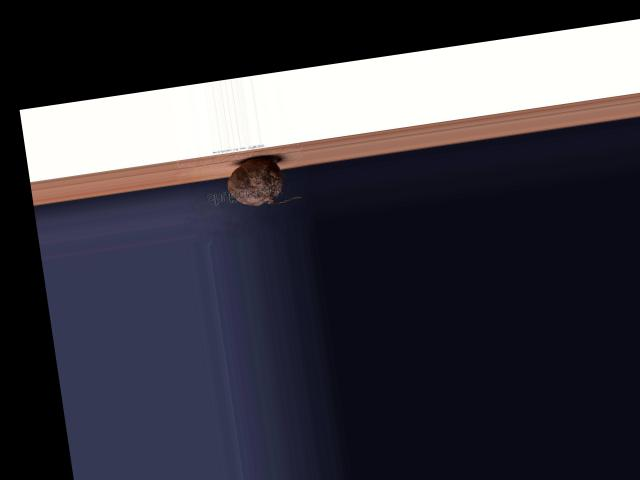beet: (224, 152, 303, 210)
